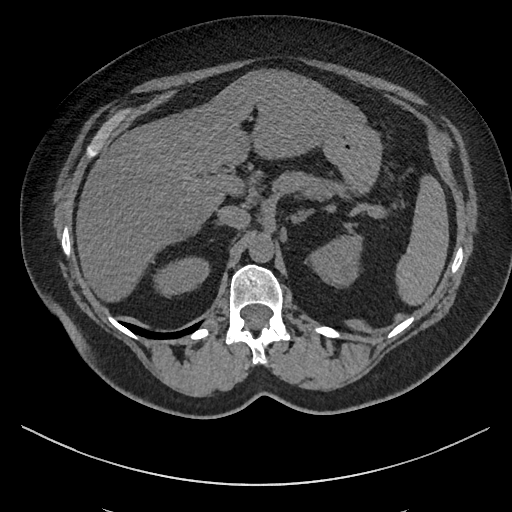Lesion: (343, 258, 363, 278)
